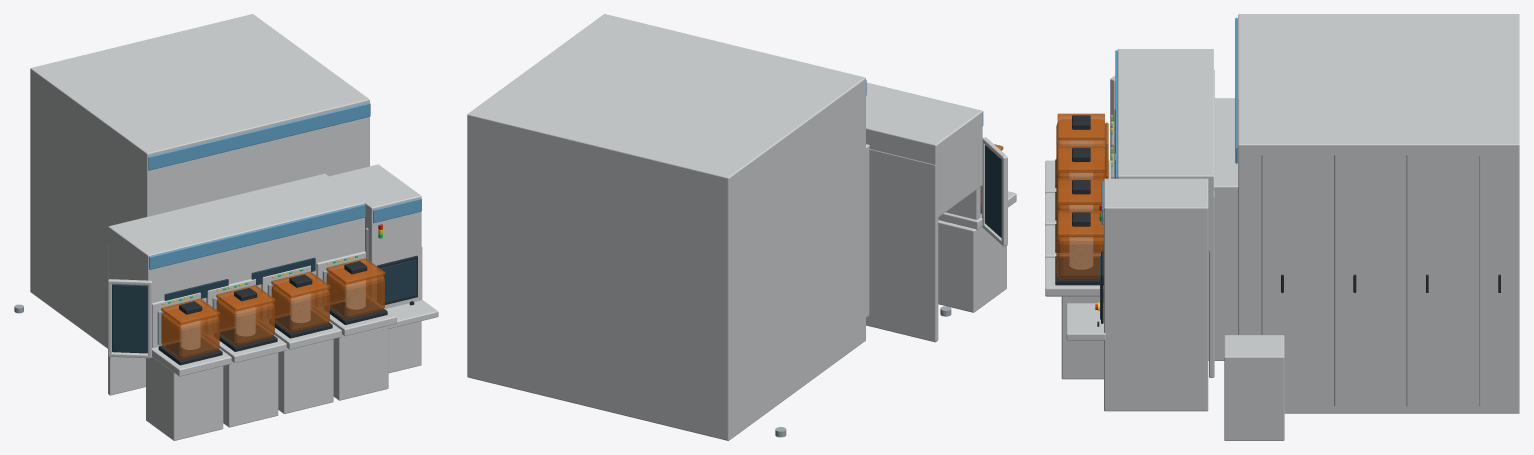
File: Ion_Implanter.fbx
3 views of the same model, side by side, from view 1: azimuth 30°, elevation 25°; view 2: azimuth 150°, elevation 25°; view 3: azimuth 270°, elevation 25° (orthographic). The views are drawn at different scales.
Parts seen in each view (by area): view 1: Rear_Tall_Housing, Front_Upper_Cabinet, Console_Cabinet, Port_Body, Port_Body.001, Port_Body.002, Port_Body.003, Rear_Header, Front_Header, Safety_Window, FOUP_Amber_Shell, FOUP_Amber_Shell.001 (+22 smaller); view 2: Rear_Tall_Housing, Front_Rear_Panel, Front_Upper_Cabinet, Port_Body, Safety_Window, Beamline_Link, Port_Door_Frame, Safety_Frame_V.001, Port_Tray; view 3: Rear_Tall_Housing, Console_Cabinet, Front_Upper_Cabinet, Auxiliary_Cabinet, Beamline_Link, Port_Body.003, FOUP_Amber_Shell.003, Console_Shelf, FOUP_Top, Front_Rear_Panel, FOUP_Top.001, FOUP_Top.003 (+6 smaller).
Boxes of the visible parts, x1=… form: Rear_Tall_Housing: x1=30, y1=14, x2=369, y2=348; Front_Upper_Cabinet: x1=108, y1=173, x2=364, y2=302; Console_Cabinet: x1=329, y1=164, x2=421, y2=373; Port_Body: x1=146, y1=357, x2=223, y2=440; Port_Body.001: x1=223, y1=352, x2=278, y2=427; Port_Body.002: x1=278, y1=339, x2=333, y2=413; Port_Body.003: x1=333, y1=325, x2=388, y2=400; Rear_Header: x1=148, y1=102, x2=370, y2=170; Front_Header: x1=149, y1=204, x2=365, y2=269; Safety_Window: x1=112, y1=284, x2=147, y2=353; FOUP_Amber_Shell: x1=161, y1=313, x2=219, y2=359; FOUP_Amber_Shell.001: x1=216, y1=299, x2=274, y2=345; Rear_Tall_Housing: x1=467, y1=14, x2=865, y2=440; Front_Rear_Panel: x1=866, y1=149, x2=938, y2=342; Front_Upper_Cabinet: x1=866, y1=82, x2=982, y2=217; Port_Body: x1=938, y1=220, x2=1006, y2=312; Safety_Window: x1=985, y1=145, x2=1001, y2=237; Beamline_Link: x1=866, y1=144, x2=869, y2=317; Port_Door_Frame: x1=946, y1=187, x2=980, y2=219; Safety_Frame_V.001: x1=1001, y1=157, x2=1007, y2=245; Port_Tray: x1=938, y1=191, x2=1016, y2=229; Rear_Tall_Housing: x1=1238, y1=14, x2=1519, y2=413; Console_Cabinet: x1=1104, y1=178, x2=1208, y2=411; Front_Upper_Cabinet: x1=1117, y1=49, x2=1213, y2=251; Auxiliary_Cabinet: x1=1224, y1=335, x2=1284, y2=440; Beamline_Link: x1=1208, y1=98, x2=1238, y2=360; Port_Body.003: x1=1061, y1=296, x2=1103, y2=379; FOUP_Amber_Shell.003: x1=1056, y1=220, x2=1103, y2=279; Console_Shelf: x1=1066, y1=303, x2=1105, y2=340; FOUP_Top: x1=1057, y1=113, x2=1104, y2=140; Front_Rear_Panel: x1=1209, y1=69, x2=1214, y2=377; FOUP_Top.001: x1=1057, y1=146, x2=1104, y2=172; FOUP_Top.003: x1=1057, y1=210, x2=1103, y2=237.
Size of the model in its own units: 603 by 370 by 590.
